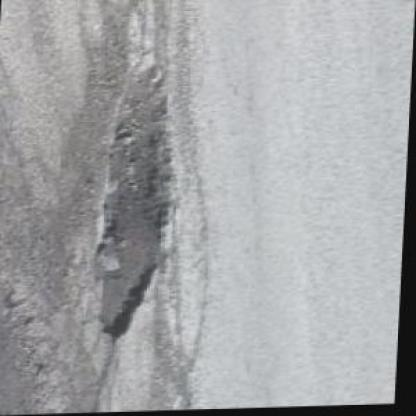pothole: (90, 65, 193, 344)
